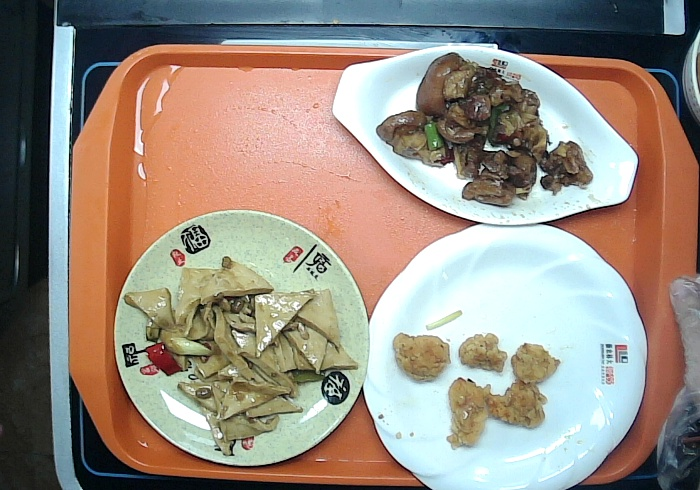NLDX-Bai_Zhe_Yuan_Pan: (361, 218, 653, 490)
NLDX-Fu_Zi_Yuan_Pan: (110, 200, 372, 470)
NLDX-Yu_Pan: (325, 42, 641, 228)
